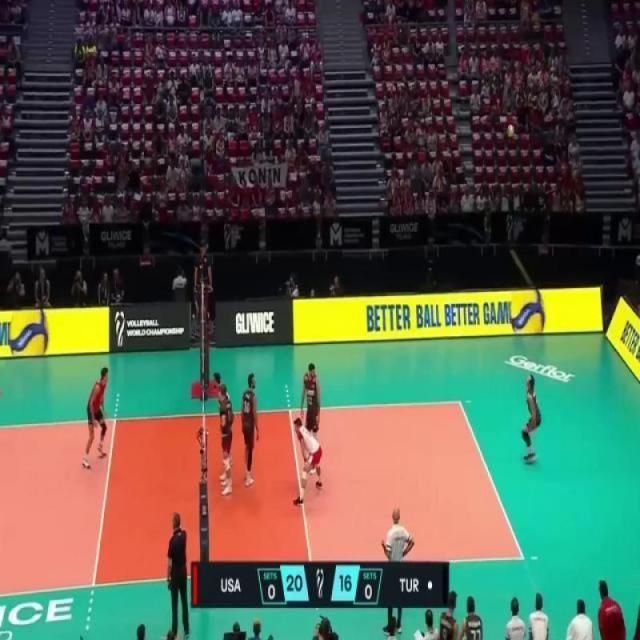volleyball: (6, 311, 49, 356), (508, 288, 546, 334), (506, 122, 515, 138)
